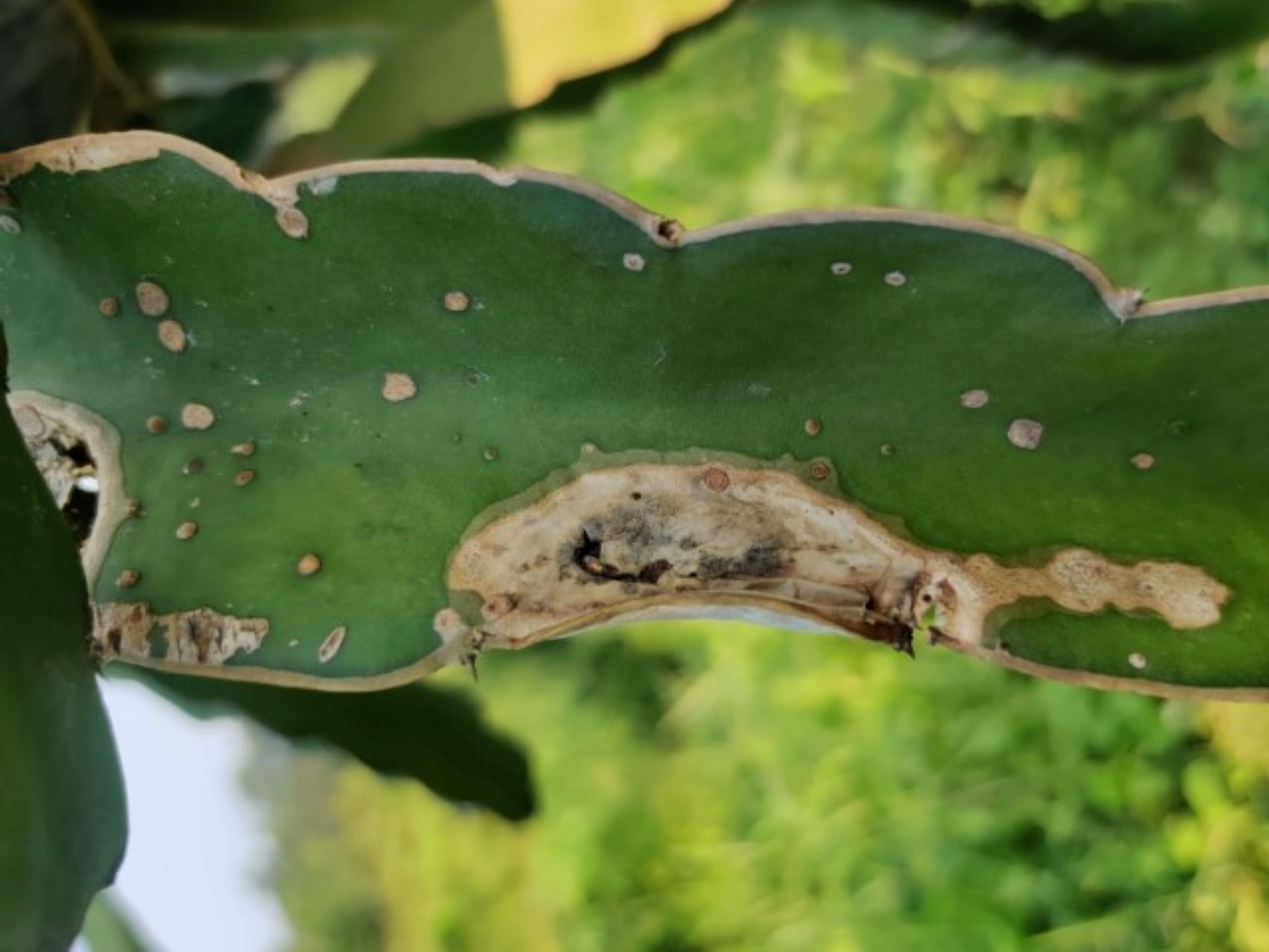stemcanker: (376, 364, 1244, 734)
